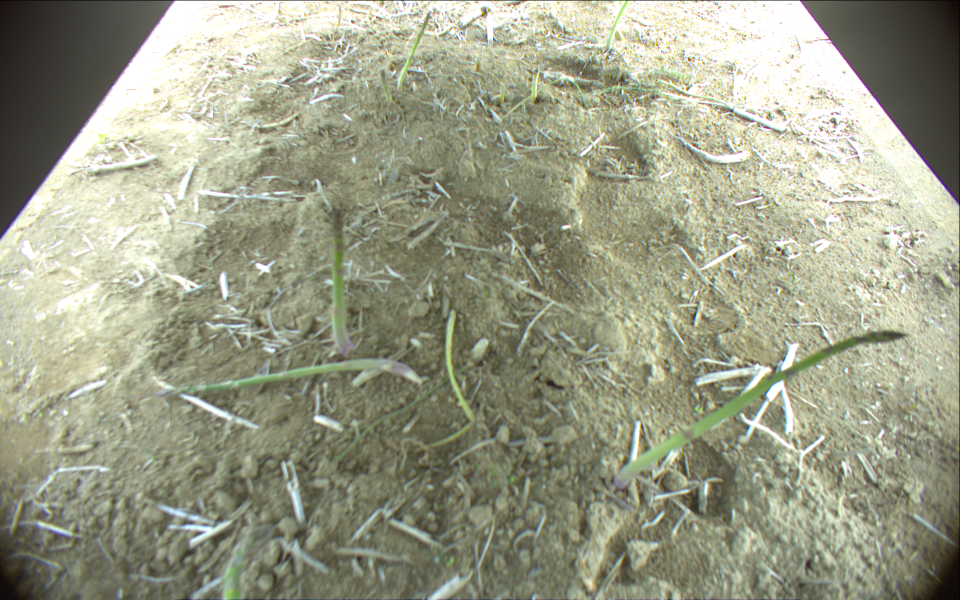aspa: (612, 327, 910, 489), (157, 358, 423, 407), (423, 308, 478, 454), (222, 511, 261, 600), (331, 206, 354, 353), (398, 10, 431, 90), (607, 1, 630, 54), (530, 65, 540, 100), (381, 68, 391, 102)
